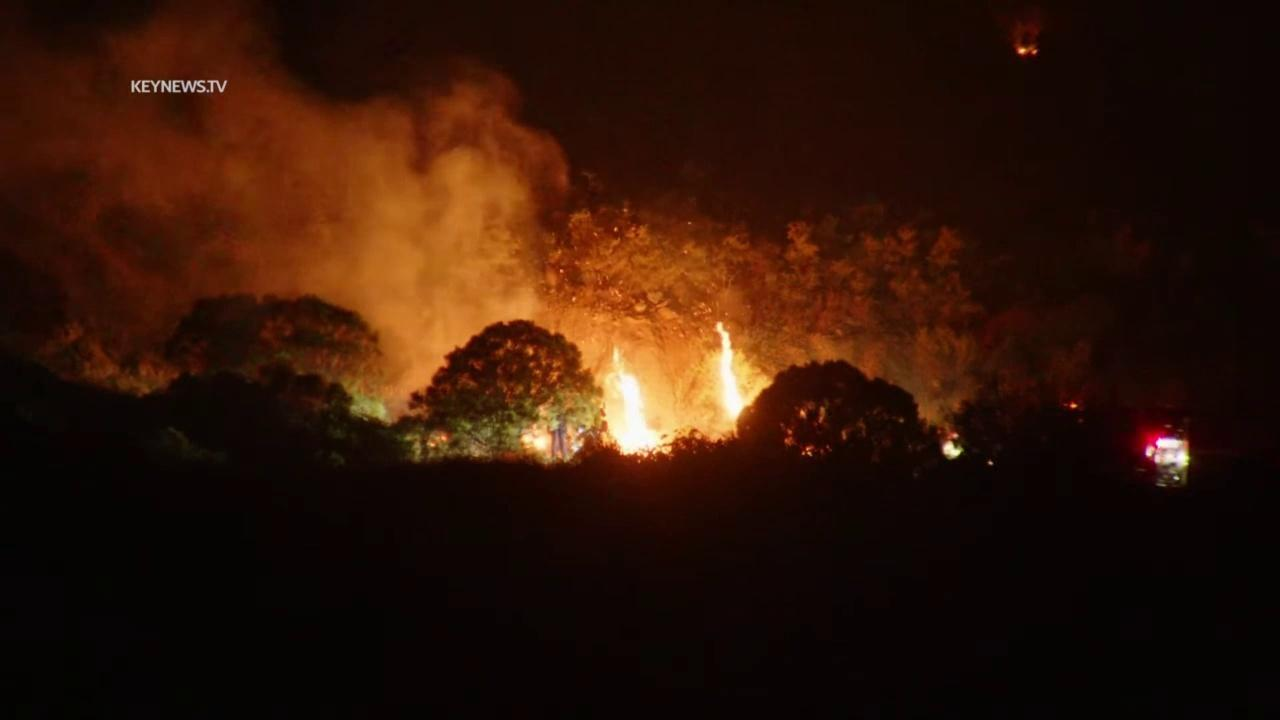fire: (605, 344, 655, 460), (714, 319, 747, 422), (519, 426, 554, 457), (777, 425, 798, 445), (937, 426, 961, 442), (798, 444, 819, 459), (1012, 46, 1041, 56), (1068, 401, 1081, 411)
smoke: (1, 0, 580, 427), (990, 1, 1050, 47)
